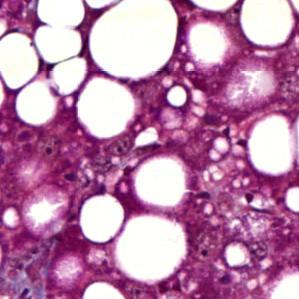steatosis: (78, 83, 134, 140), (136, 156, 188, 206), (75, 192, 126, 241), (16, 82, 57, 126)
